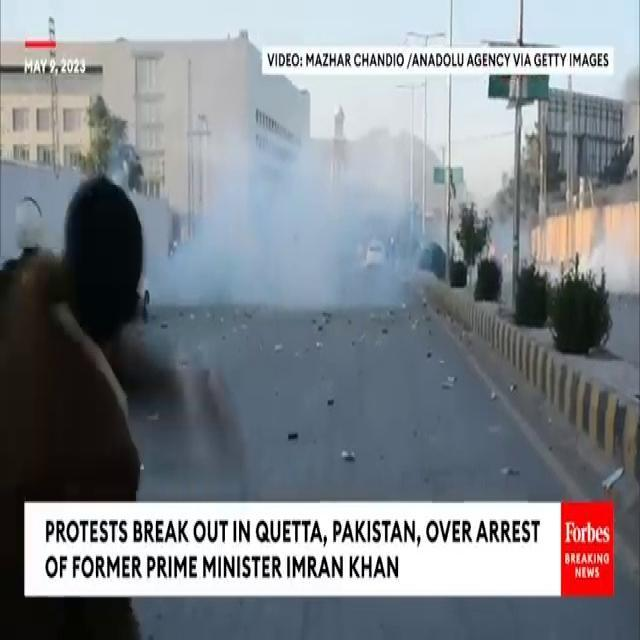Smoke: (137, 108, 419, 314)
